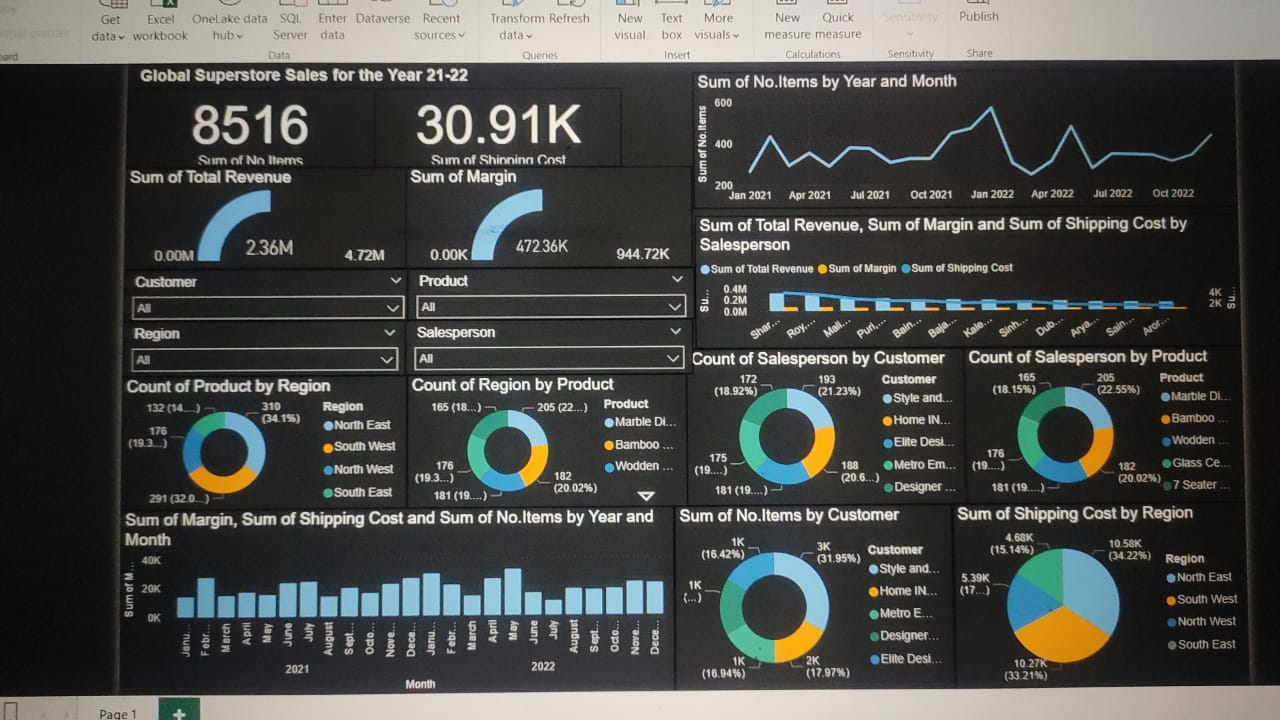

The page's visual inventory and layout, read from the dashboard file:
{"tool":"powerbi","page":{"name":"Page 1","canvas":[1280,720],"ordinal":0},"visuals":[{"type":"textbox","box":[9.6,0,409.9,53.5],"z":0},{"type":"clusteredColumnChart","fields":{"Y":["Raw_Data.Margin"],"Category":["Raw_Data.Date.Variation.Date Hierarchy.Year","Raw_Data.Date.Variation.Date Hierarchy.Month"]},"box":[0,511.4,625.9,208.6],"z":1000},{"type":"donutChart","fields":{"Category":["Raw_Data.Customer"],"Y":["Raw_Data.No.Items"]},"box":[625.9,511.4,317.2,208.6],"z":2000},{"type":"pieChart","fields":{"Category":["Raw_Data.Region"],"Y":["Raw_Data.Shipping Cost"]},"box":[943.1,511.4,337.7,208.6],"z":3000},{"type":"donutChart","fields":{"Category":["Raw_Data.Region"],"Y":["Raw_Data.Product"]},"box":[0,360.6,322.2,150.8],"z":4000},{"type":"donutChart","fields":{"Category":["Raw_Data.Product"],"Y":["Raw_Data.Region"]},"box":[322.2,360.6,322.2,150.8],"z":5000},{"type":"donutChart","fields":{"Category":["Raw_Data.Customer"],"Y":["Raw_Data.Salesperson"]},"box":[640.3,333.2,322.2,178.2],"z":6000},{"type":"donutChart","fields":{"Category":["Raw_Data.Product"],"Y":["Raw_Data.Salesperson"]},"box":[958.4,333.2,322.2,178.2],"z":7000},{"type":"slicer","fields":{"Values":["Raw_Data.Region"]},"box":[0,297.5,322.2,63.1],"z":8000},{"type":"slicer","fields":{"Values":["Raw_Data.Salesperson"]},"box":[319.5,297.5,329.1,63.1],"z":9000},{"type":"slicer","fields":{"Values":["Raw_Data.Customer"]},"box":[0,238.6,329.1,59],"z":10000},{"type":"slicer","fields":{"Values":["Raw_Data.Product"]},"box":[322.2,238.6,329.1,59],"z":11000},{"type":"lineClusteredColumnComboChart","fields":{"Category":["Raw_Data.Salesperson"],"Y":["Raw_Data.Total Revenue","Raw_Data.Margin"],"Y2":["Raw_Data.Shipping Cost"]},"box":[651.3,179.7,629.5,153.2],"z":12000},{"type":"gauge","fields":{"Y":["Raw_Data.Total Revenue"]},"box":[0,122,329.1,116.5],"z":13000},{"type":"gauge","fields":{"Y":["Raw_Data.Margin"]},"box":[319.5,122,329.1,116.5],"z":14000},{"type":"lineChart","fields":{"Y":["Raw_Data.No.Items"],"Category":["Raw_Data.Date.Variation.Date Hierarchy.Year","Raw_Data.Date.Variation.Date Hierarchy.Month"]},"box":[650.1,12.1,629.5,159.2],"z":15000},{"type":"card","fields":{"Values":["Raw_Data.No.Items"]},"box":[0,30.2,283.8,91.9],"z":16000},{"type":"card","fields":{"Values":["Raw_Data.Shipping Cost"]},"box":[283.8,30.2,283.8,91.9],"z":17000}]}

Visuals, with their boxes on the page's 1280x720 design canvas (x1, y1, x2, y2). These are canvas units, not pixel positions in the 1280x720 screenshot, which may show the page scaled, cropped or inside an application window:
textbox: l=10, t=0, r=420, b=54
clusteredColumnChart - Raw_Data.Margin x Raw_Data.Date.Variation.Date Hierarchy.Year: l=0, t=511, r=626, b=720
donutChart - Raw_Data.Customer x Raw_Data.No.Items: l=626, t=511, r=943, b=720
pieChart - Raw_Data.Region x Raw_Data.Shipping Cost: l=943, t=511, r=1281, b=720
donutChart - Raw_Data.Region x Raw_Data.Product: l=0, t=361, r=322, b=511
donutChart - Raw_Data.Product x Raw_Data.Region: l=322, t=361, r=644, b=511
donutChart - Raw_Data.Customer x Raw_Data.Salesperson: l=640, t=333, r=962, b=511
donutChart - Raw_Data.Product x Raw_Data.Salesperson: l=958, t=333, r=1281, b=511
slicer - Raw_Data.Region: l=0, t=298, r=322, b=361
slicer - Raw_Data.Salesperson: l=320, t=298, r=649, b=361
slicer - Raw_Data.Customer: l=0, t=239, r=329, b=298
slicer - Raw_Data.Product: l=322, t=239, r=651, b=298
lineClusteredColumnComboChart - Raw_Data.Salesperson x Raw_Data.Total Revenue: l=651, t=180, r=1281, b=333
gauge - Raw_Data.Total Revenue: l=0, t=122, r=329, b=238
gauge - Raw_Data.Margin: l=320, t=122, r=649, b=238
lineChart - Raw_Data.No.Items x Raw_Data.Date.Variation.Date Hierarchy.Year: l=650, t=12, r=1280, b=171
card - Raw_Data.No.Items: l=0, t=30, r=284, b=122
card - Raw_Data.Shipping Cost: l=284, t=30, r=568, b=122
